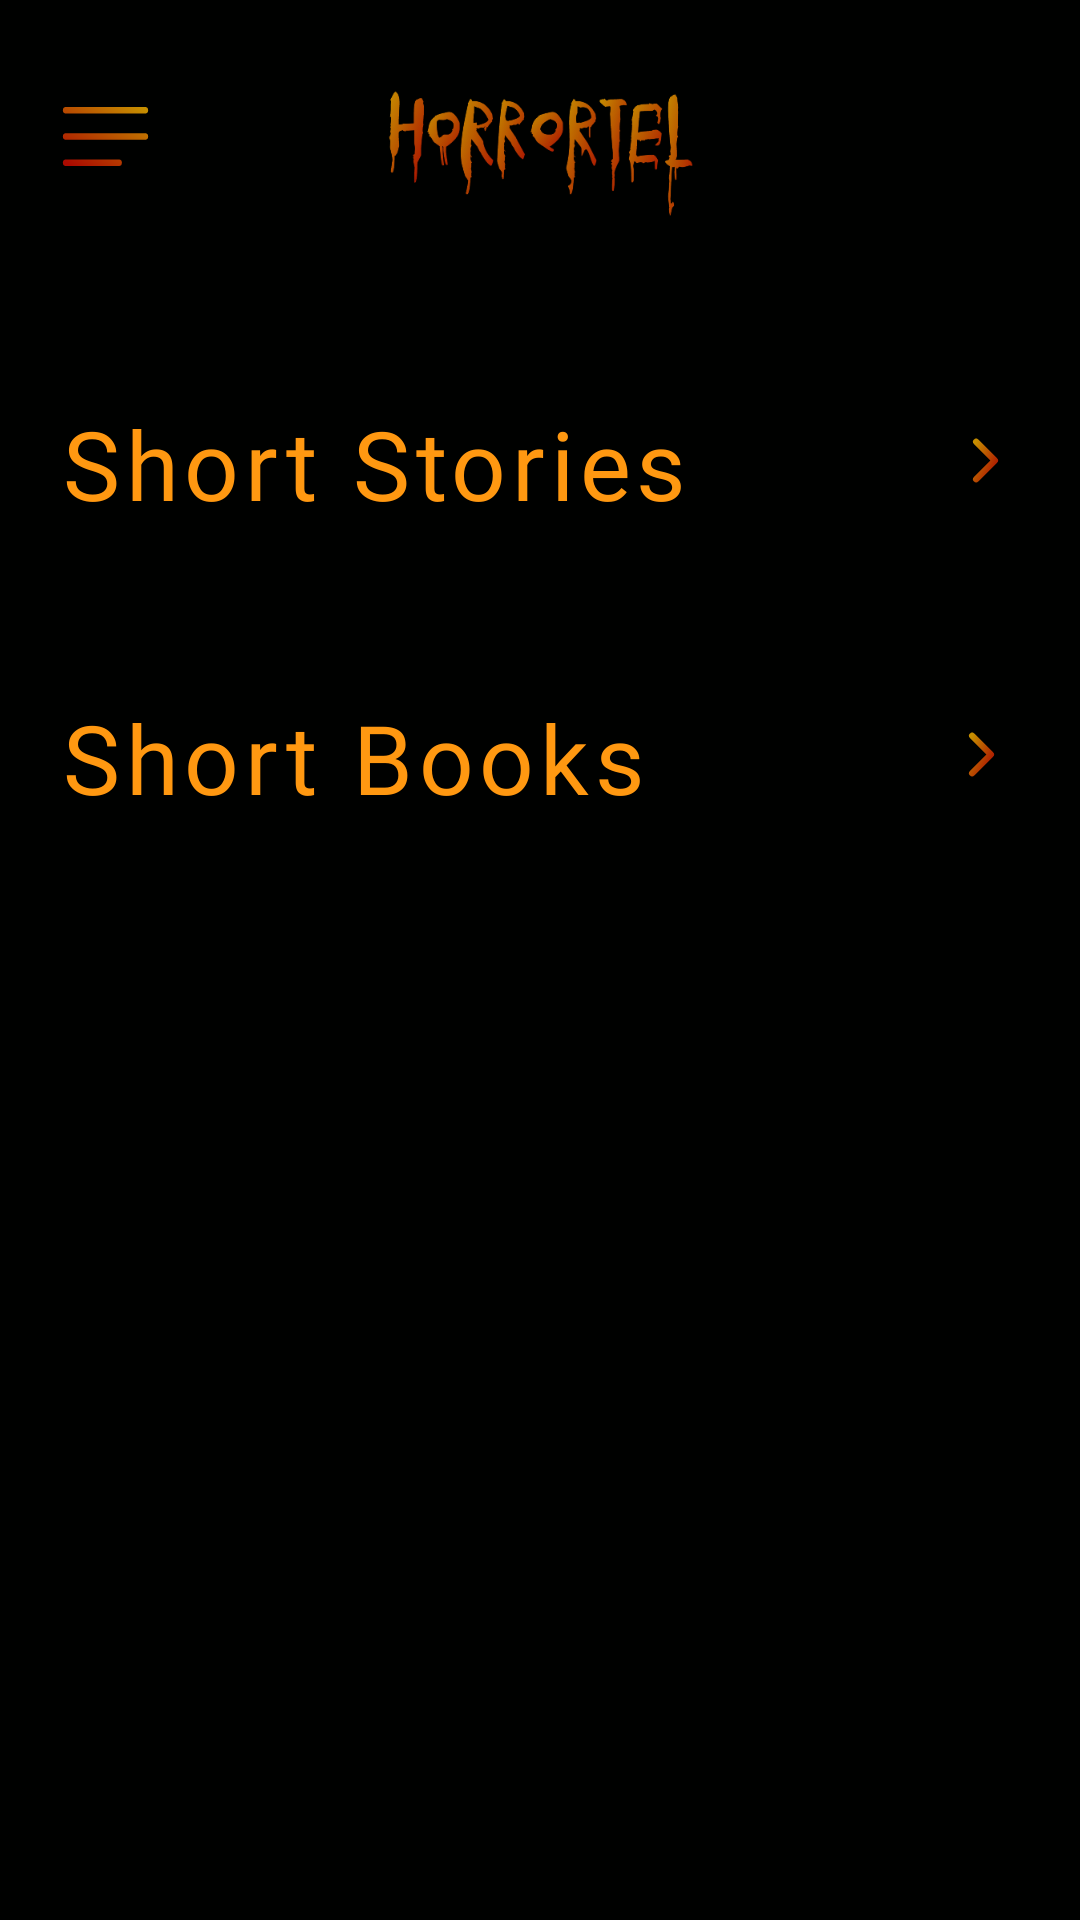

Icon click points for this 1080×1920 phone screenshot, format [x,y]:
chevron right: [985,460], [981,754]
